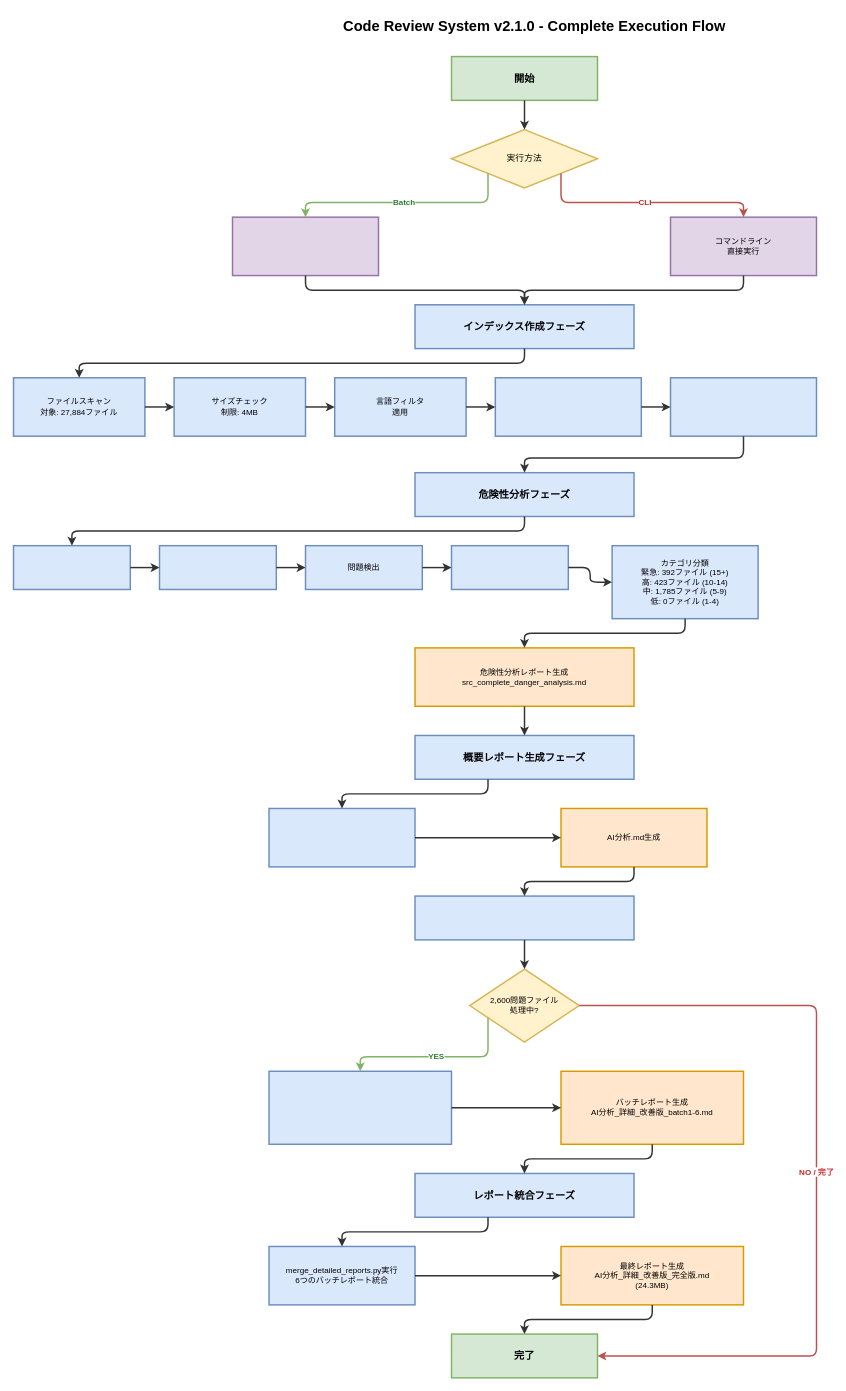
The diagram is 846 pixels wide and 1391 high, and some of its shapes have lost their labels. The shapes that lost their labels are listed below. From the top down, each one's centre as x and y in pixels, then its label:
At point 305,246: "run_detailed_analysis_auto.bat 実行".
At point 568,407: "エンコーディング検出 UTF-8 → CP932 → Shift-JIS → Latin-1".
At point 743,407: "インデックス保存 .advice_index.pickle 結果: 15,710ファイル (27.88秒)".
At point 71,567: "インデックス読込".
At point 217,567: "ルール適用 対象: 15,710ファイル".
At point 509,567: "重要度スコア計算".
At point 341,837: "create_overview_report.py実行 危険性分析の解析 優先度別分類".
At point 524,917: "バッチ詳細分析フェーズ".
At point 360,1107: "バッチ処理実行 analyze_dangerous_files_detailed.py 6バッチ (500ファイル×5 + 100ファイル×1)".
